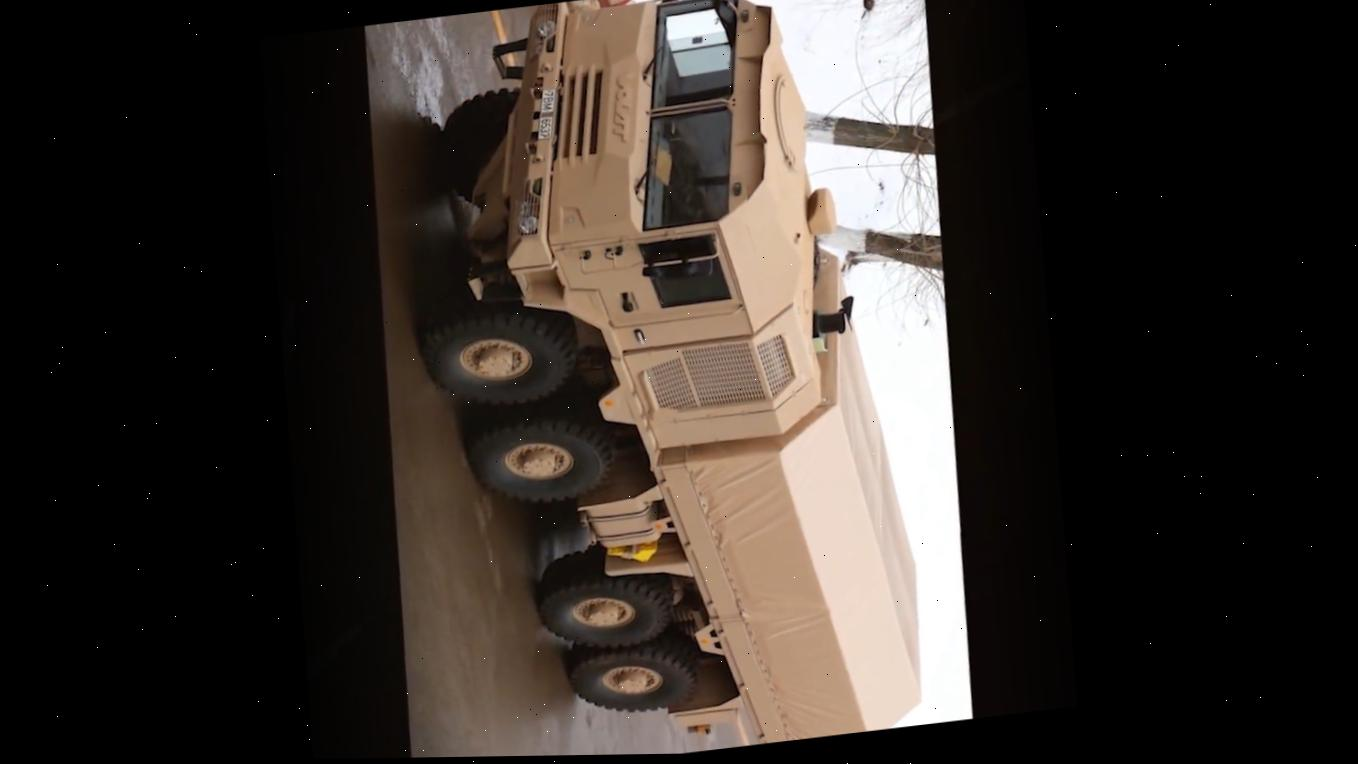truck: (378, 0, 949, 758)
